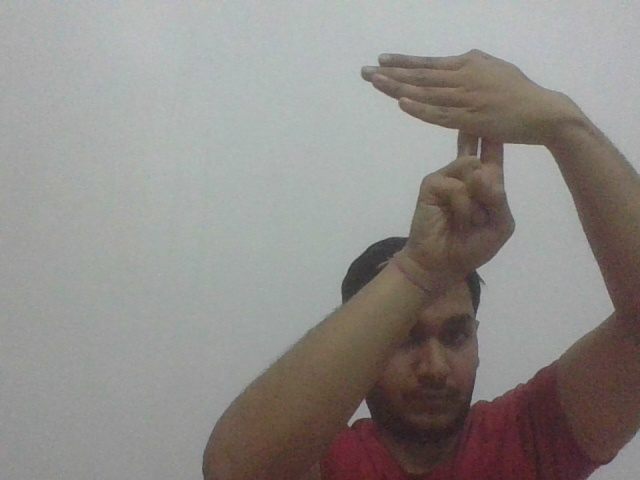N: (356, 47, 542, 169)
